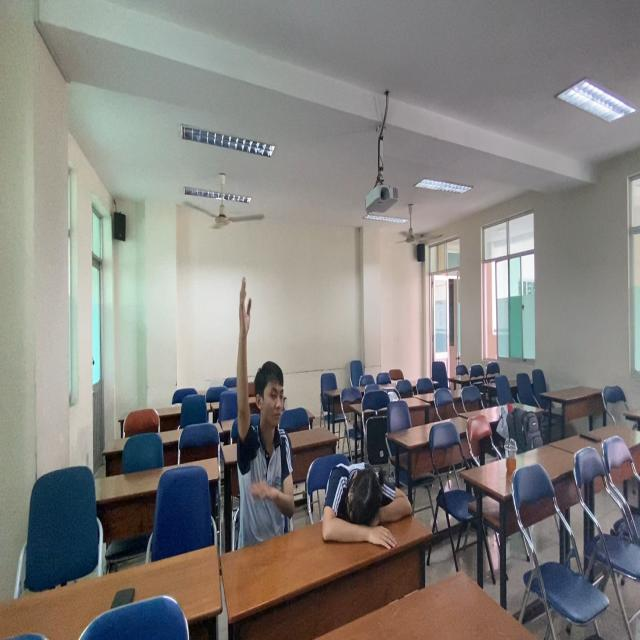raise_hand: (228, 269, 297, 540)
sleep: (316, 455, 418, 546)
